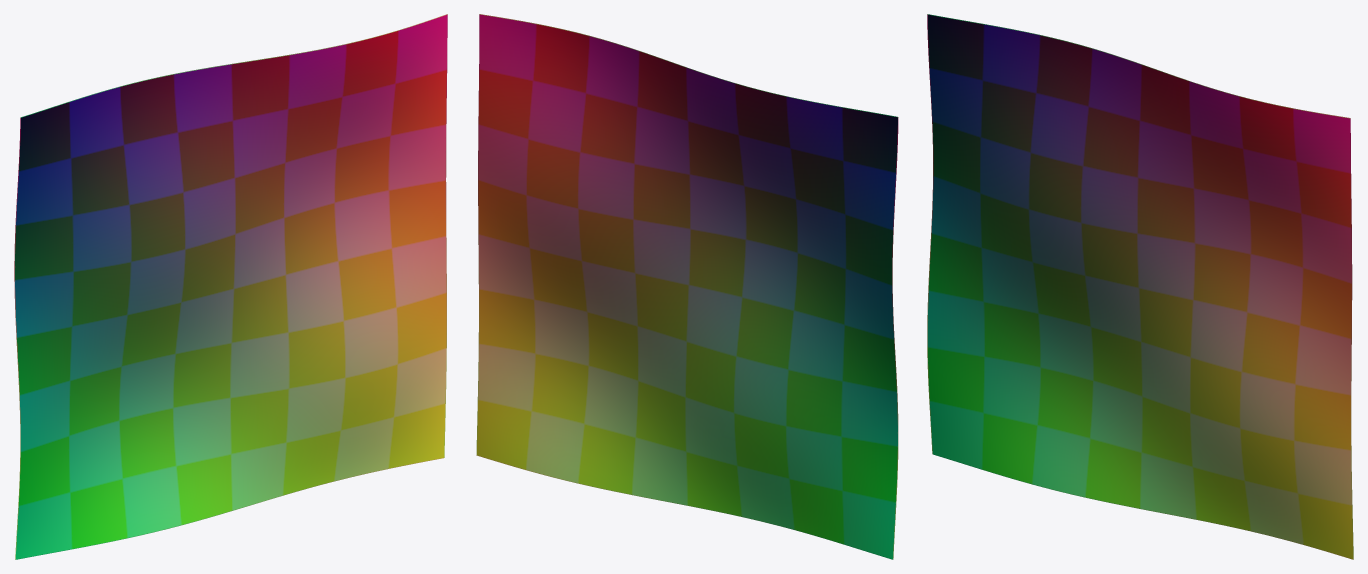
Rendered from Tile_+018_+007.obj.
3 renders of one model, left to right at view 1: azimuth 30°, elevation 25°; view 2: azimuth 150°, elevation 25°; view 3: azimuth 330°, elevation 25°, orthographic.
Size of the model in its own units: 100 by 100 by 5.7.
